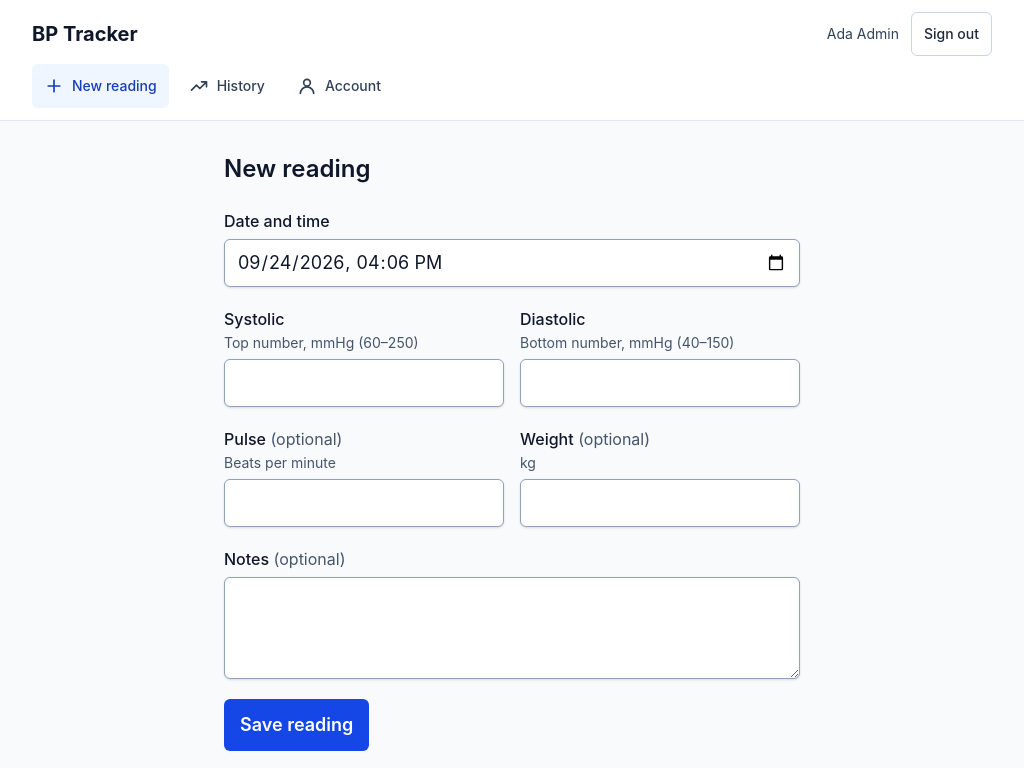
Test: App › navigates between the new-reading form and the account page
expect the navigation bar named "Main" is shown: met, box top-left (32, 64), bottom-right (381, 108)
Click the link "Account": (339, 86) top-left (297, 76), bottom-right (381, 96)
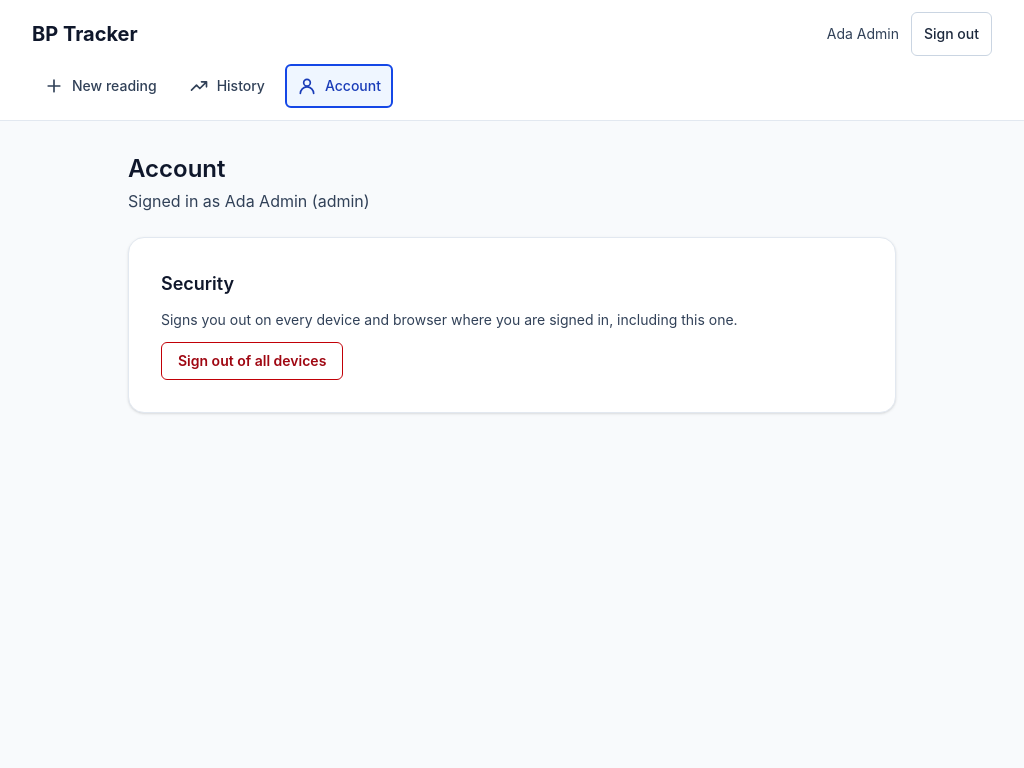
expect the heading "Account" is shown: met, box top-left (128, 154), bottom-right (226, 183)
expect the text "Signed in as Ada Admin (admin)" is shown: met, box top-left (128, 191), bottom-right (370, 211)
